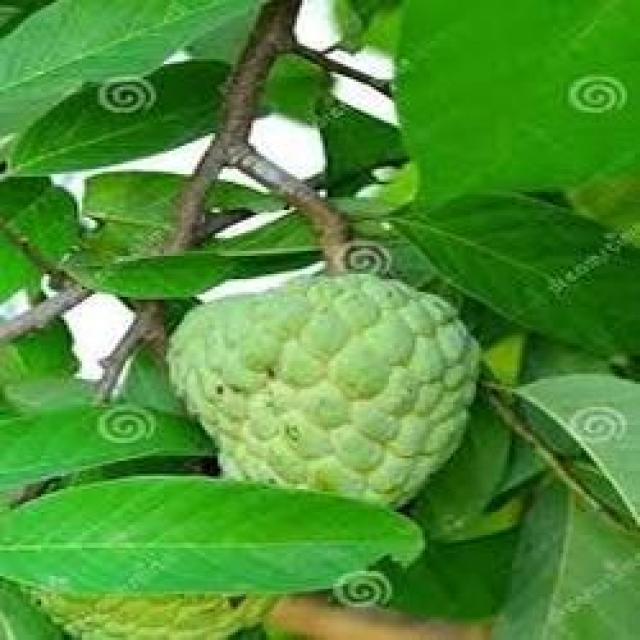apple: (164, 256, 486, 504)
